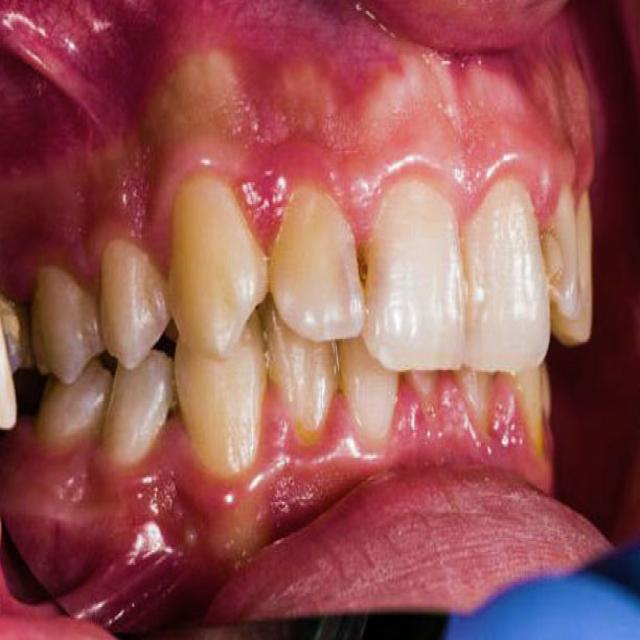caries: (532, 224, 576, 288)
